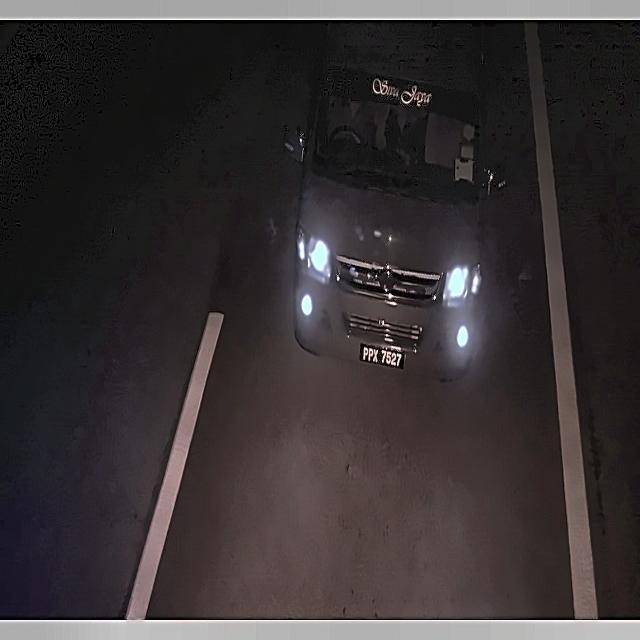car: (356, 338, 411, 378)
